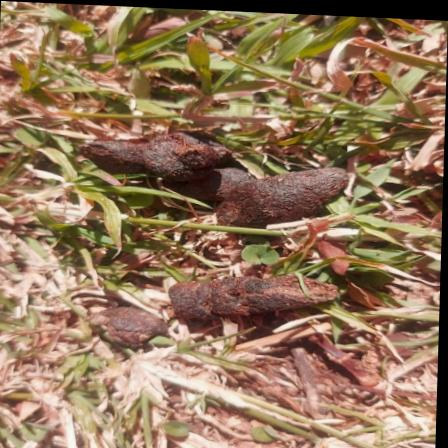dog-poop: (68, 110, 355, 228), (74, 251, 356, 365)
